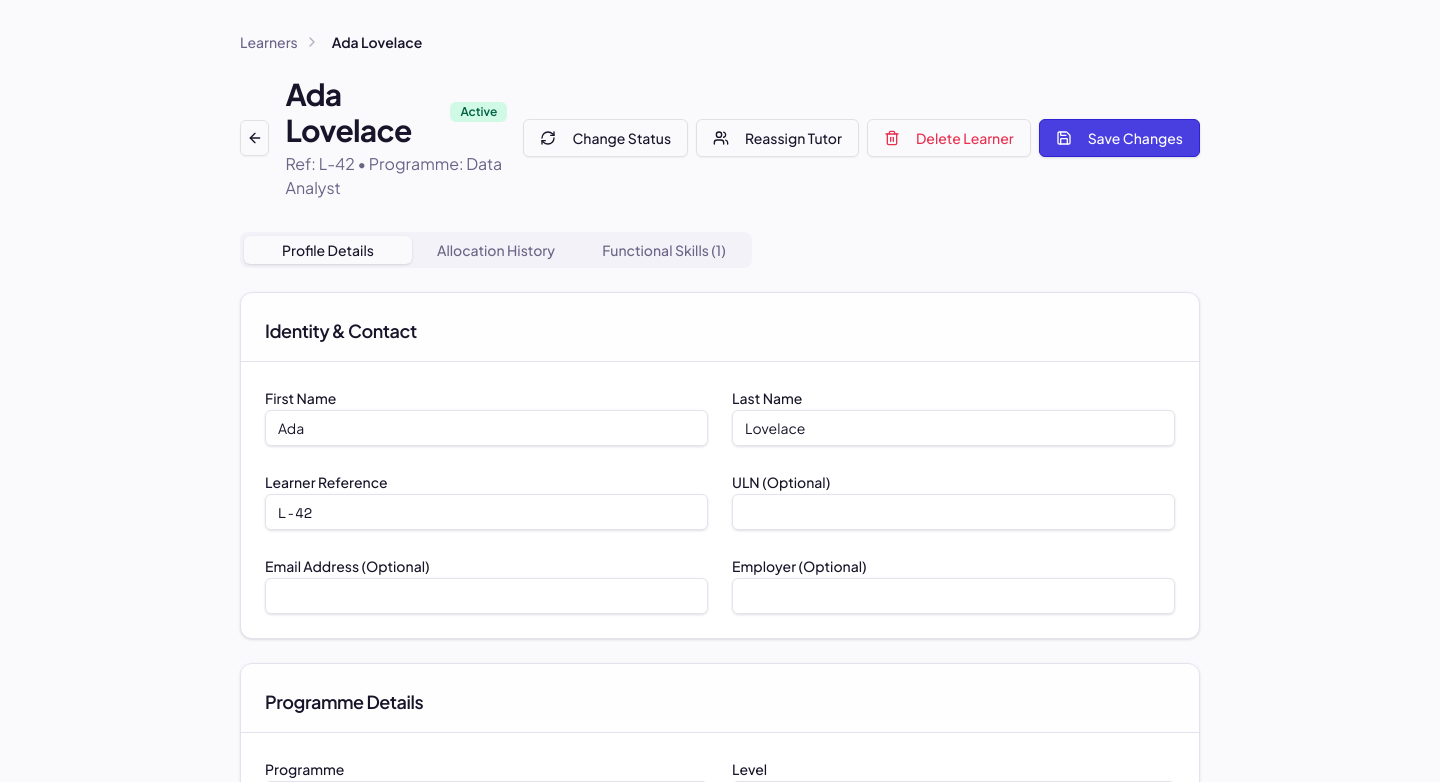
Test: LearnerDetailPage for an existing learner › closes the reassign dialog after a successful reassignment
Click the button "Reassign Tutor" at (778, 138), box top-left (696, 119), bottom-right (859, 157)
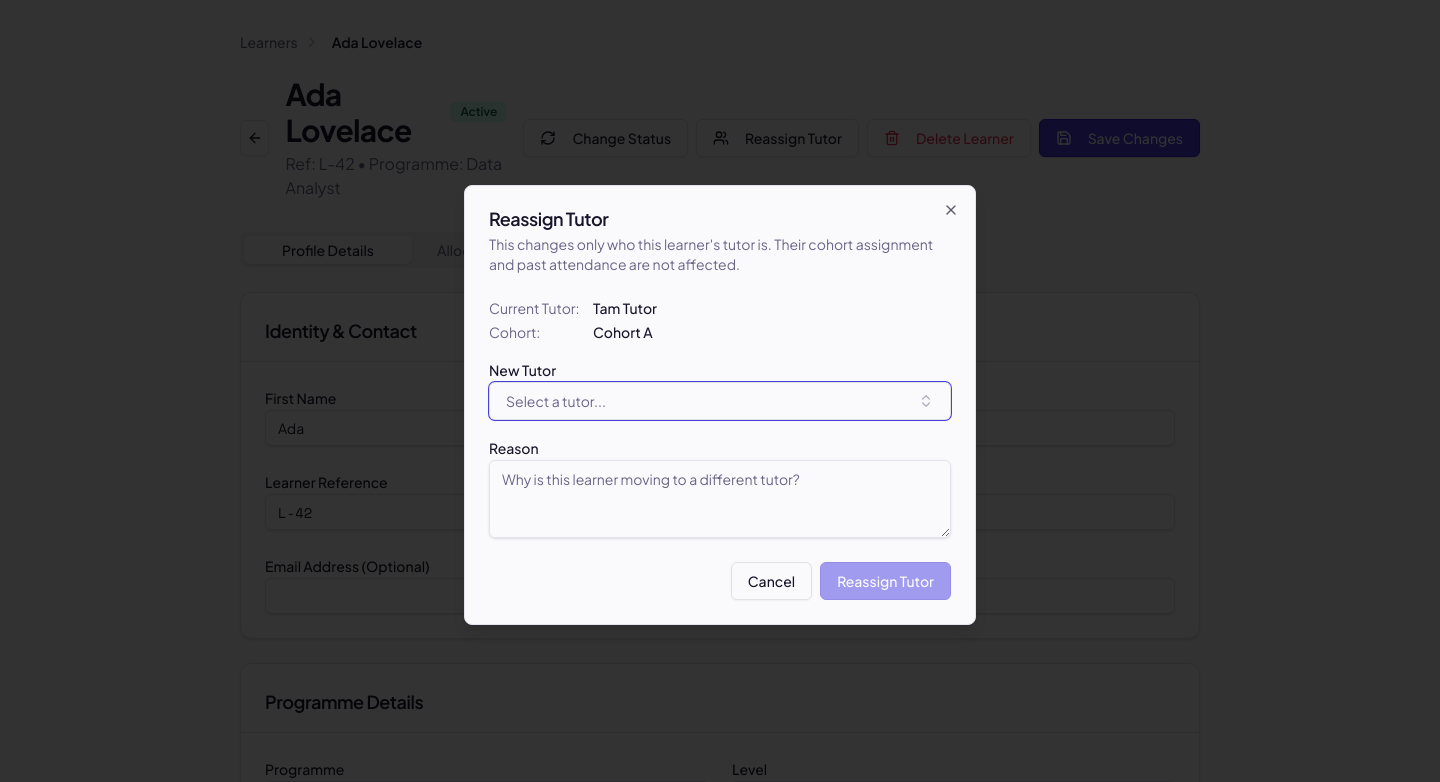
Click the dropdown named "new tutor" at (556, 401), box top-left (489, 382), bottom-right (951, 420)
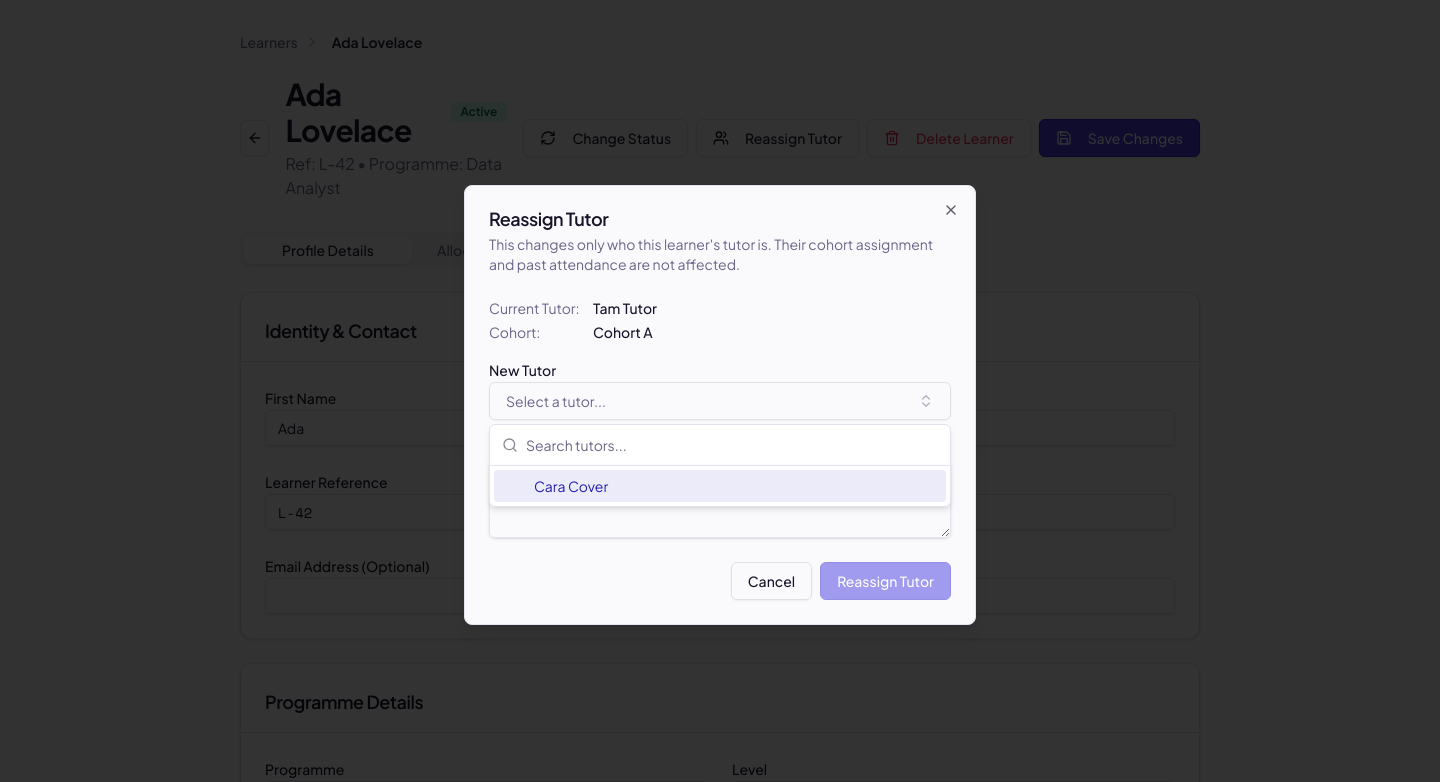
Click the option "Cara Cover" at (571, 486), box top-left (494, 470), bottom-right (946, 502)
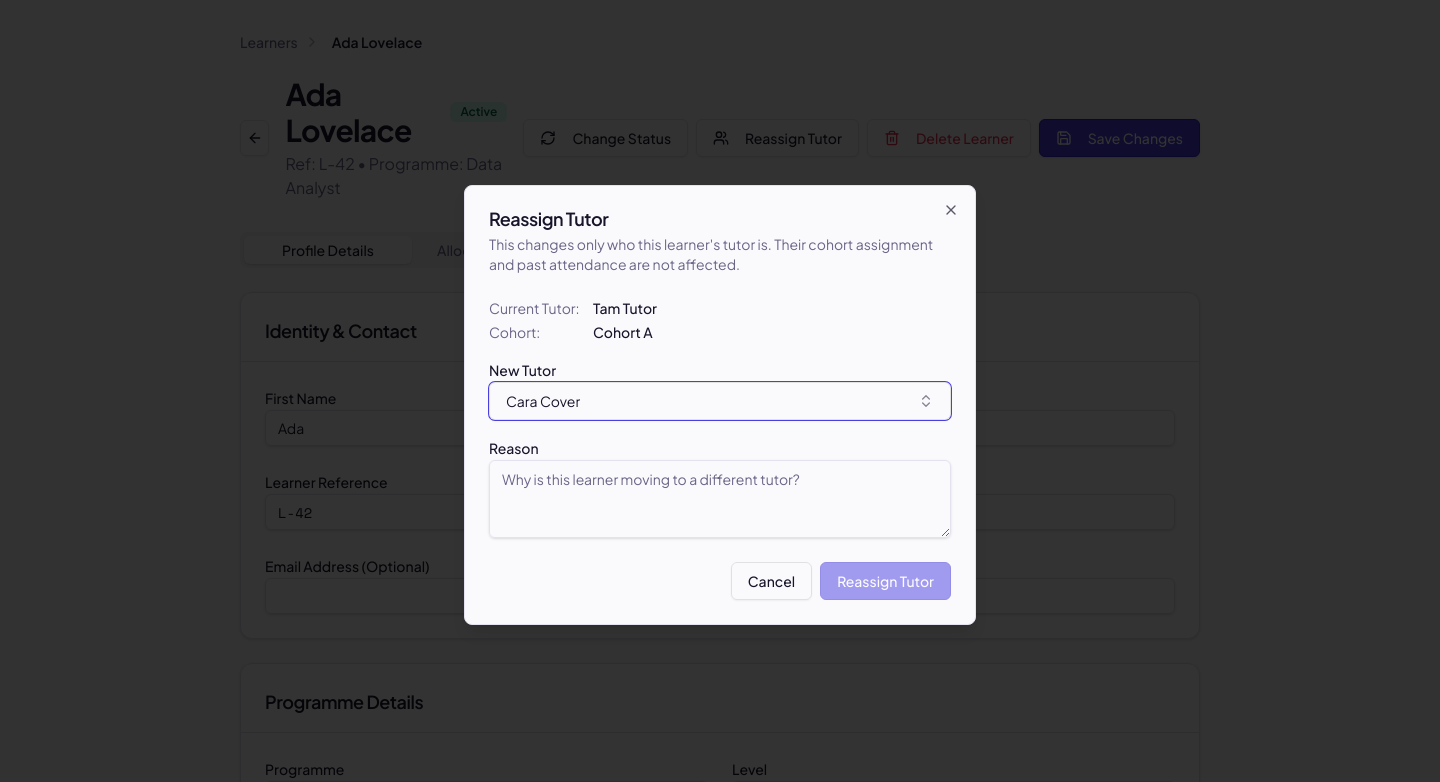
Type "Tam is on leave" into the text box labelled "Reason" at (720, 499), box top-left (489, 460), bottom-right (951, 538)
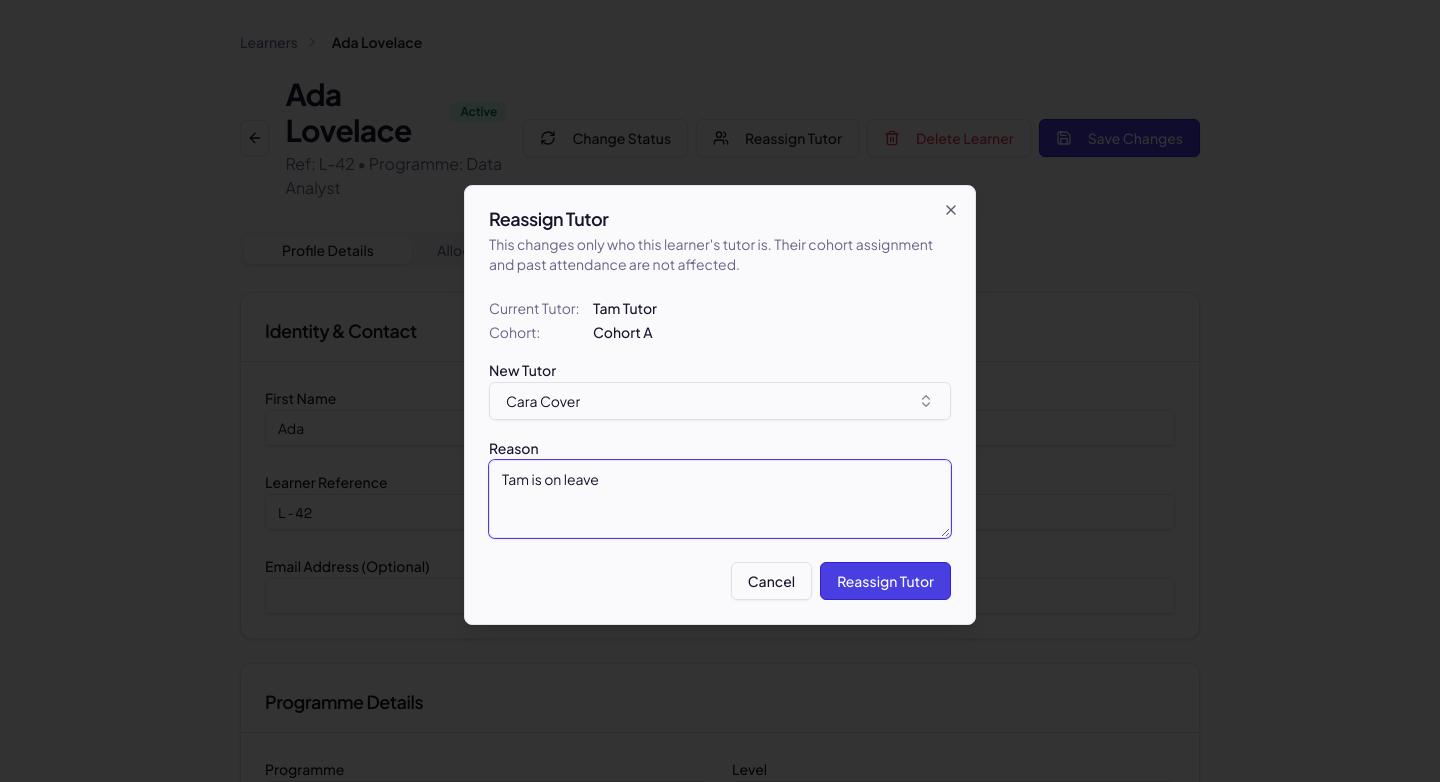
Click the button "Reassign Tutor" at (886, 581), box top-left (820, 562), bottom-right (951, 600)
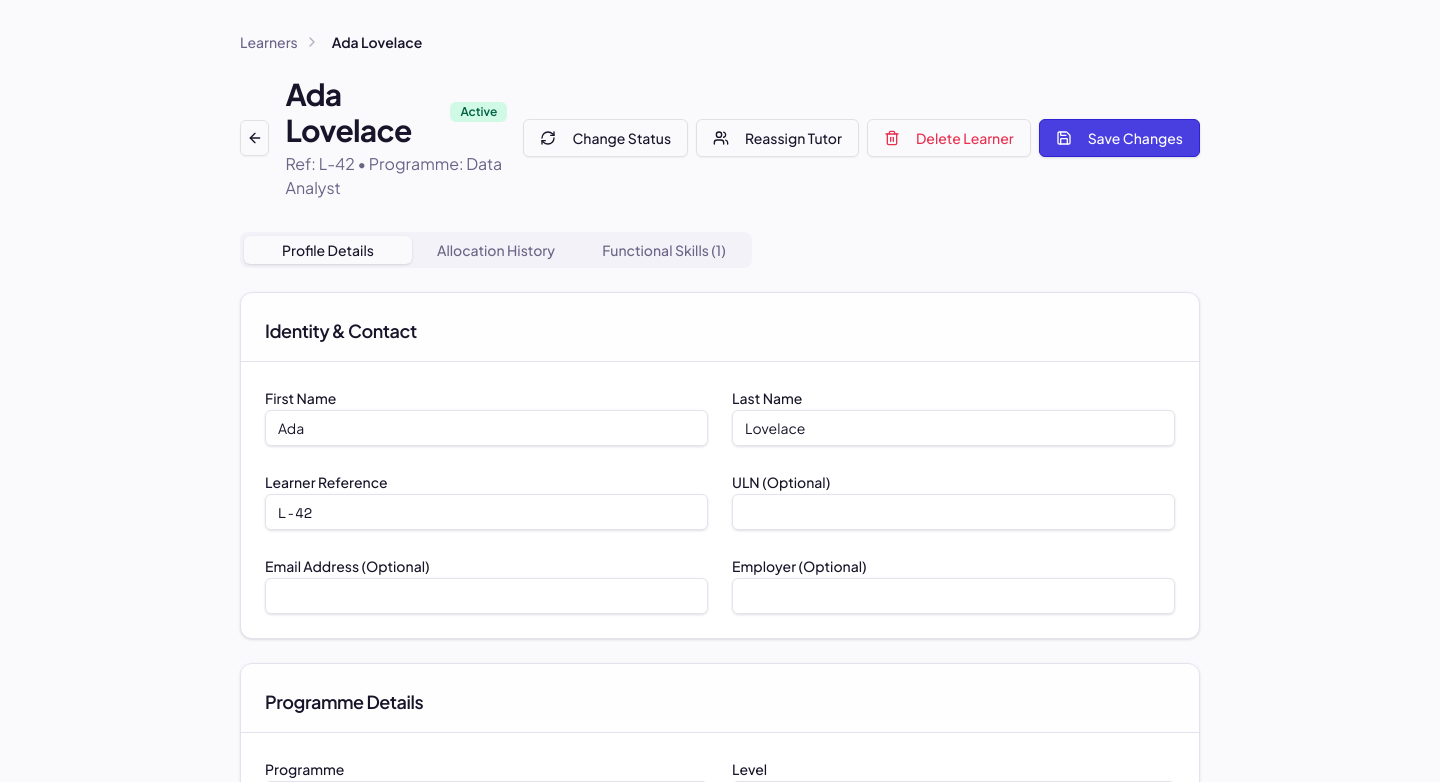
Expected: the dialog is gone
